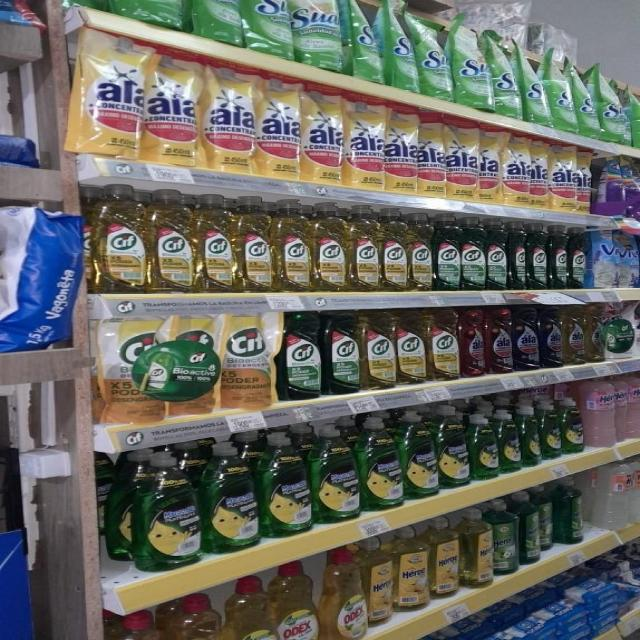ala_conc_amarillo: (562, 304, 586, 366)
ala_conc_azul: (512, 307, 538, 371), (539, 306, 563, 368)
ala_conc_rojo: (485, 307, 512, 374), (460, 308, 484, 377)
ala_sachet_amarillo: (69, 35, 142, 160), (143, 52, 200, 168), (203, 65, 256, 173), (257, 76, 300, 179), (301, 87, 343, 183), (345, 97, 383, 188), (385, 104, 416, 193), (446, 120, 474, 200), (418, 116, 445, 197), (502, 132, 527, 206), (528, 138, 550, 208), (480, 127, 500, 203), (550, 142, 572, 211)
cif_conc_bot_amarilla: (90, 183, 147, 293), (149, 189, 194, 293), (196, 193, 234, 293), (236, 196, 274, 293), (274, 198, 311, 292), (313, 202, 346, 293), (348, 205, 379, 292), (362, 310, 395, 390), (380, 208, 408, 292), (396, 310, 426, 386), (428, 308, 458, 382), (408, 212, 433, 291)
cif_conc_botella_verde: (280, 311, 322, 401), (324, 310, 361, 394), (105, 0, 187, 30), (191, 0, 242, 45), (434, 215, 460, 291), (461, 217, 485, 291), (486, 218, 507, 290), (528, 222, 548, 290), (548, 224, 568, 290), (508, 221, 527, 290), (569, 226, 587, 290)
cif_conc_sachet_amarillo: (220, 310, 275, 410), (98, 310, 145, 424)
cif_conc_sachet_verde: (293, 0, 346, 72), (245, 0, 290, 57)
magistral_con_amarillo: (396, 525, 429, 613), (430, 518, 460, 600), (369, 534, 394, 628)
odex: (322, 544, 367, 639), (273, 563, 320, 640), (227, 576, 275, 640), (170, 592, 225, 640)
